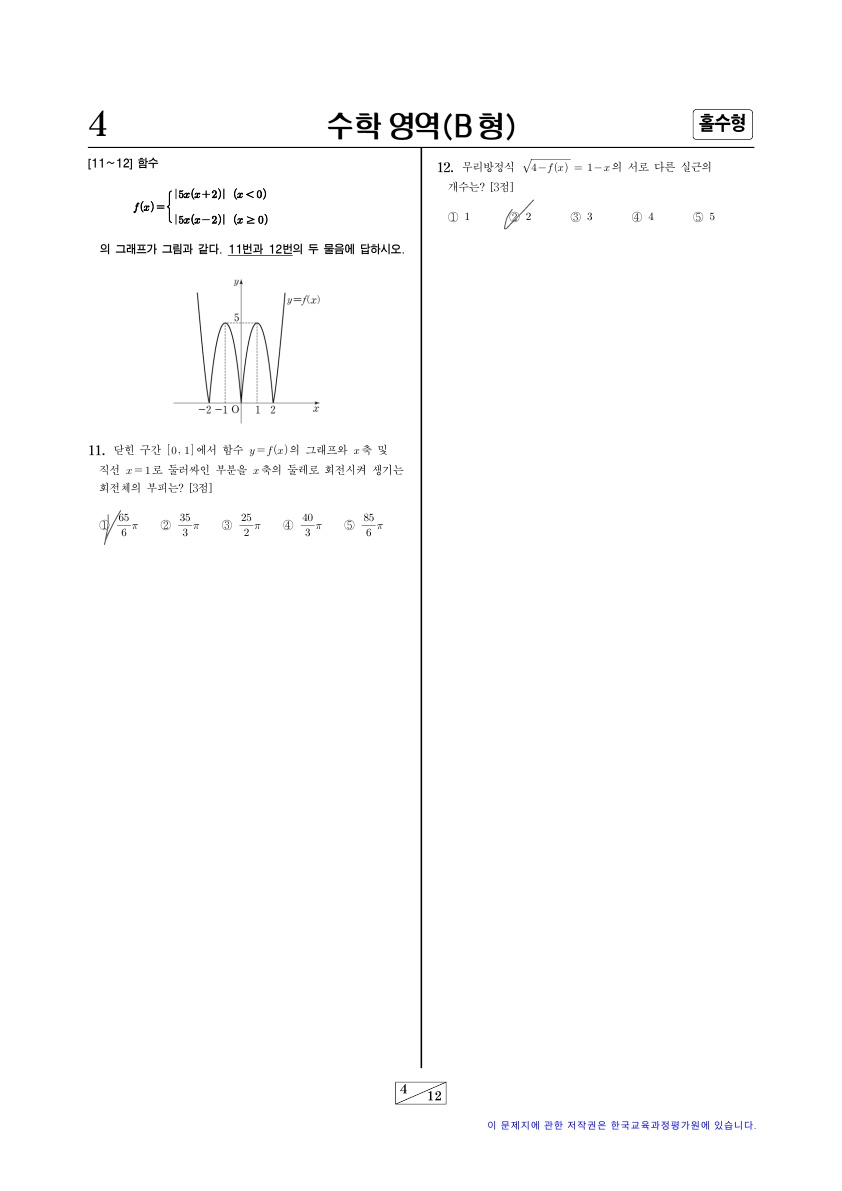question: (68, 148, 417, 556), (421, 149, 738, 243)
